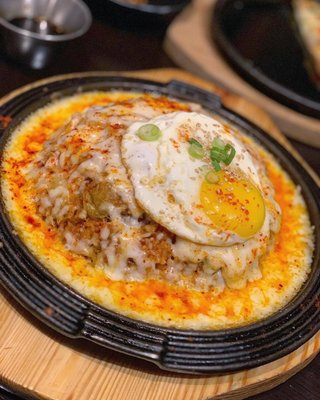sushi: (0, 0, 93, 70)
